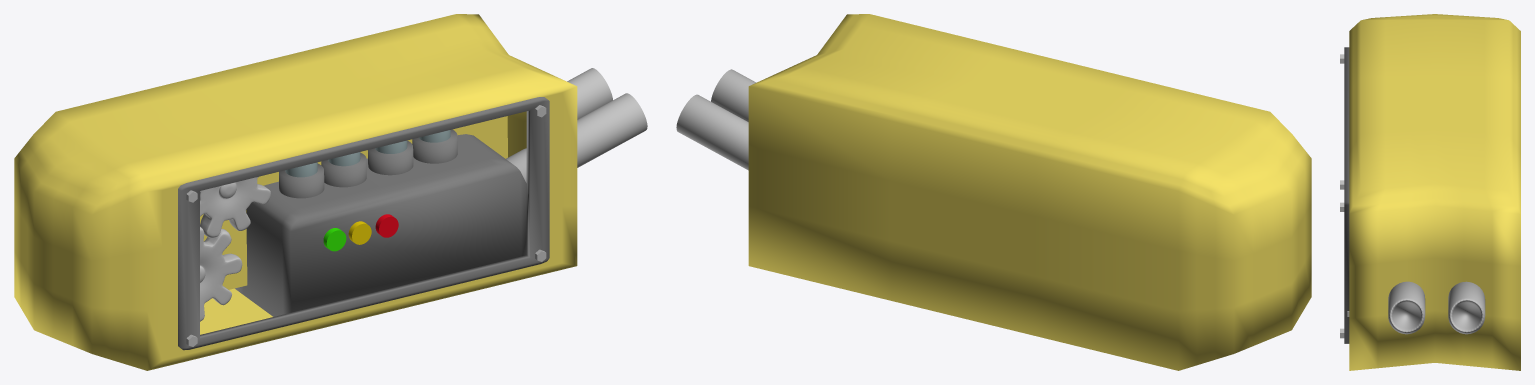
The model's file is Engine.fbx.
The picture shows the model from 3 angles, left to right: view 1: azimuth 30°, elevation 25°; view 2: azimuth 150°, elevation 25°; view 3: azimuth 270°, elevation 25°; orthographic projection. The views are drawn at different scales.
Parts seen in each view (by area): view 1: Cube, Cylinder.009, Cube.001, Cylinder.017, Cylinder, Plane, Cylinder.001; view 2: Cube, Cylinder.017; view 3: Cube, Cylinder.017, Cube.001.
Part boxes in pixels (x1=…): Cube: x1=14, y1=14, x2=577, y2=370; Cylinder.009: x1=235, y1=129, x2=526, y2=316; Cube.001: x1=178, y1=97, x2=549, y2=350; Cylinder.017: x1=506, y1=68, x2=647, y2=182; Cylinder: x1=200, y1=176, x2=270, y2=237; Plane: x1=200, y1=116, x2=507, y2=289; Cylinder.001: x1=200, y1=227, x2=242, y2=321; Cube: x1=748, y1=14, x2=1311, y2=370; Cylinder.017: x1=676, y1=69, x2=756, y2=170; Cube: x1=1349, y1=14, x2=1520, y2=370; Cylinder.017: x1=1388, y1=281, x2=1485, y2=334; Cube.001: x1=1344, y1=47, x2=1349, y2=343.
Bounding box in the file's own units: 1115 × 347 × 339.
